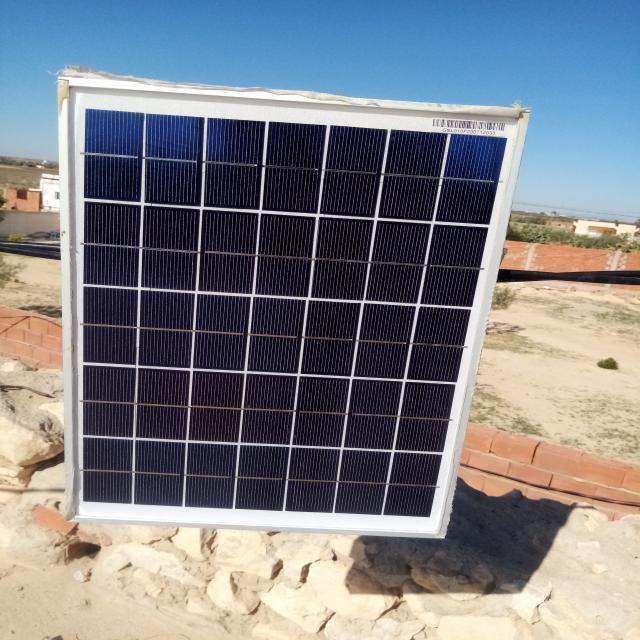no faulty: (59, 77, 525, 537)
